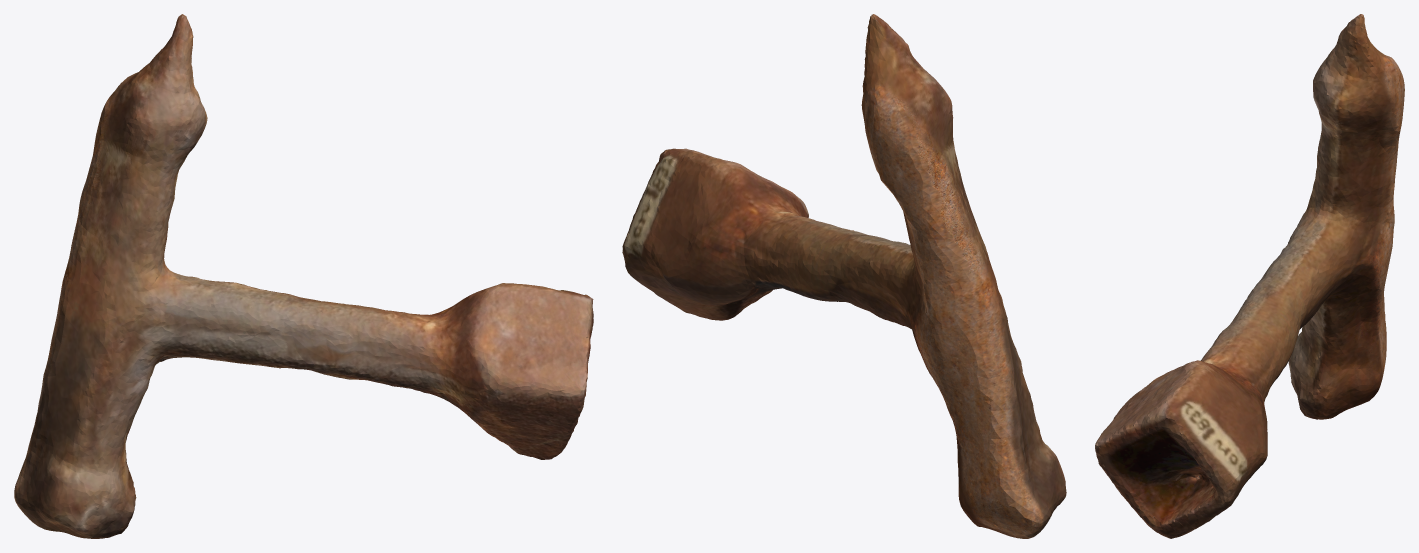
The model's file is Handle.dae.
3 views of the same model, side by side, from view 1: azimuth 30°, elevation 25°; view 2: azimuth 150°, elevation 25°; view 3: azimuth 270°, elevation 25° (orthographic). The views are drawn at different scales.
Parts seen in each view (by area): view 1: Polygonal_Model_1_Triangles_1, Polygonal_Model_1_Triangles_2, Polygonal_Model_1_Triangles_3; view 2: Polygonal_Model_1_Triangles_1, Polygonal_Model_1_Triangles_2, Polygonal_Model_1_Triangles_3; view 3: Polygonal_Model_1_Triangles_1, Polygonal_Model_1_Triangles_3, Polygonal_Model_1_Triangles_2.
Boxes of the visible parts, x1,y1,x2,y2 form: Polygonal_Model_1_Triangles_1: (14, 14, 590, 537); Polygonal_Model_1_Triangles_2: (14, 14, 578, 538); Polygonal_Model_1_Triangles_3: (92, 284, 593, 538); Polygonal_Model_1_Triangles_1: (622, 15, 1066, 537); Polygonal_Model_1_Triangles_2: (626, 14, 1065, 537); Polygonal_Model_1_Triangles_3: (659, 14, 1031, 538); Polygonal_Model_1_Triangles_1: (1114, 14, 1404, 534); Polygonal_Model_1_Triangles_3: (1095, 14, 1374, 538); Polygonal_Model_1_Triangles_2: (1141, 17, 1381, 536).
Size of the model in its own units: 1.19 by 0.7136 by 1.14.
Materials: 3 (3 with a texture image).
